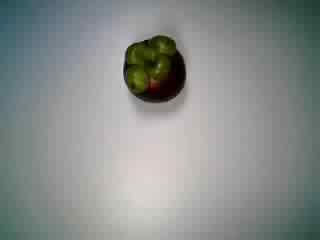mangosteen: (116, 34, 191, 107)
